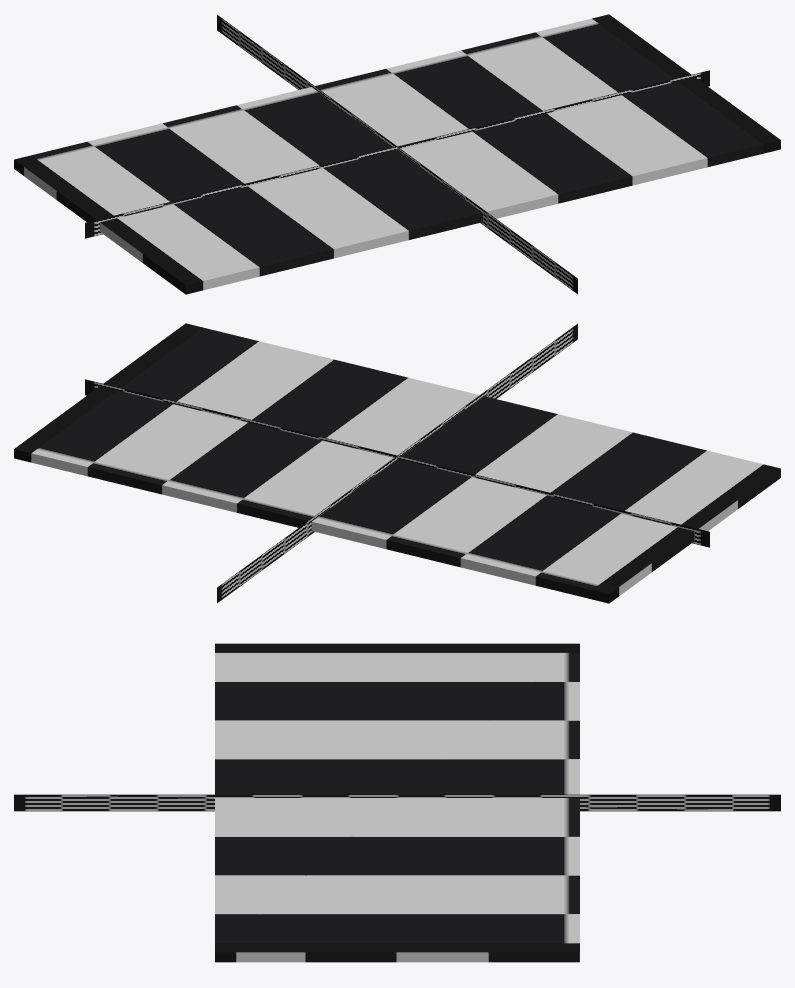
File: mat_checkered_2x1.dae
3 renders of one model, top to bottom at view 1: azimuth 30°, elevation 25°; view 2: azimuth 150°, elevation 25°; view 3: azimuth 270°, elevation 25°, orthographic. The views are drawn at different scales.
Visible parts, largest first — view 1: mat_checkered_2x1_a800, mat_checkered_2x1_a50, mat_checkered_2x1_a200; view 2: mat_checkered_2x1_a800, mat_checkered_2x1_a50, mat_checkered_2x1_a200; view 3: mat_checkered_2x1_a800, mat_checkered_2x1_a50.
Part boxes in pixels (x1,y1,x2,y2): mat_checkered_2x1_a800: (14, 14, 780, 294); mat_checkered_2x1_a50: (85, 14, 709, 294); mat_checkered_2x1_a200: (14, 160, 177, 285); mat_checkered_2x1_a800: (14, 323, 780, 603); mat_checkered_2x1_a50: (85, 323, 709, 603); mat_checkered_2x1_a200: (60, 466, 755, 602); mat_checkered_2x1_a800: (215, 643, 579, 962); mat_checkered_2x1_a50: (14, 794, 780, 811).
Bounding box in the file's own units: 2.1 × 2.1 × 0.051.
Materials: 2 (1 with a texture image).
